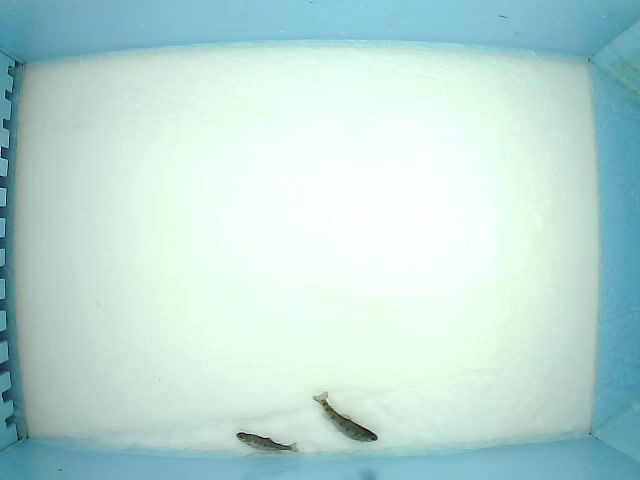fish: (311, 391, 378, 443), (235, 431, 300, 454)
